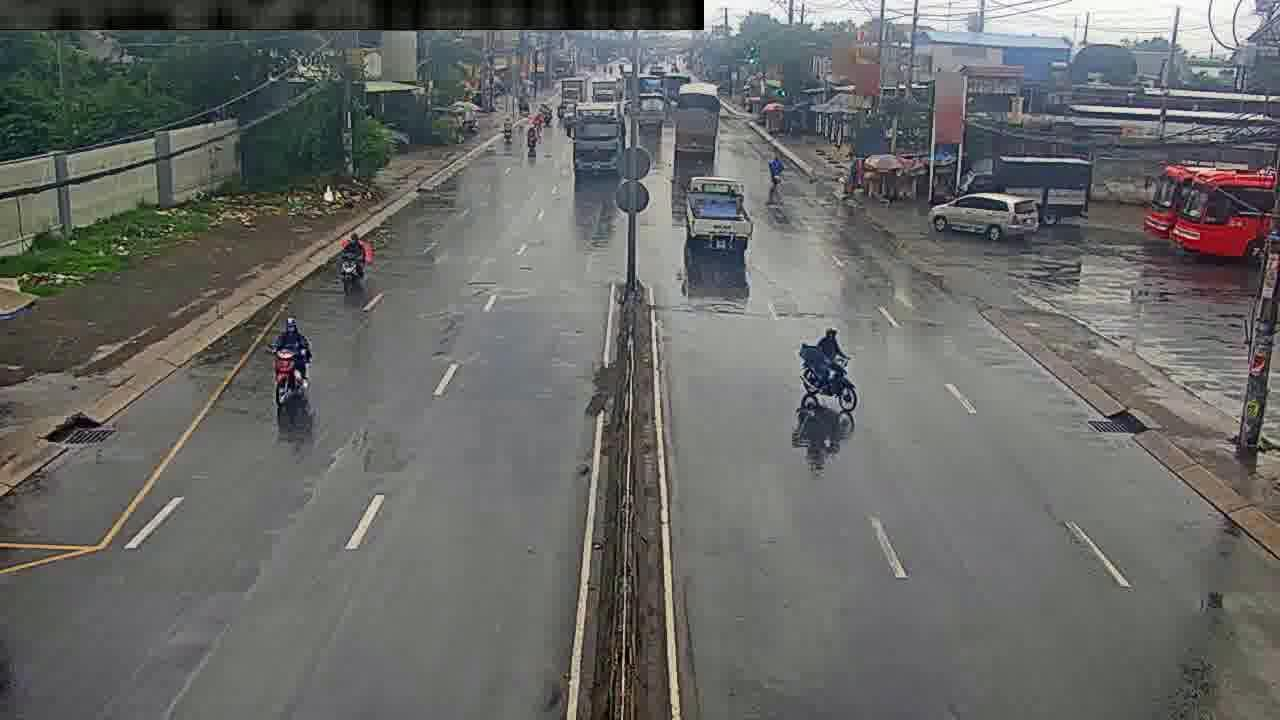8: (688, 177, 765, 246), (572, 112, 618, 173), (674, 106, 717, 161)
motorbike: (802, 322, 849, 424), (274, 313, 314, 412), (343, 223, 370, 288), (765, 148, 783, 195), (526, 115, 540, 151)
